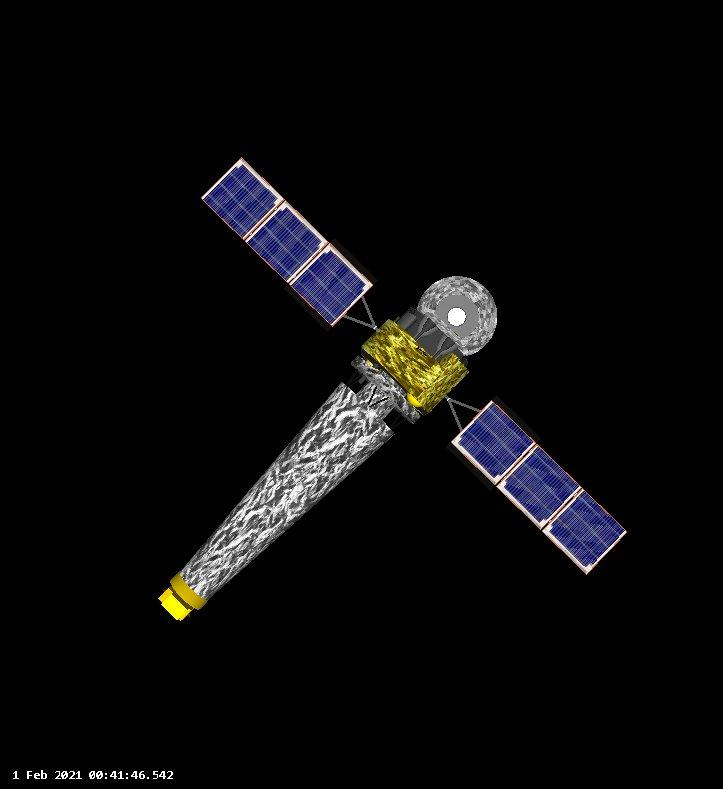body: (156, 274, 499, 624)
solar: (449, 398, 630, 577), (199, 155, 378, 333)
